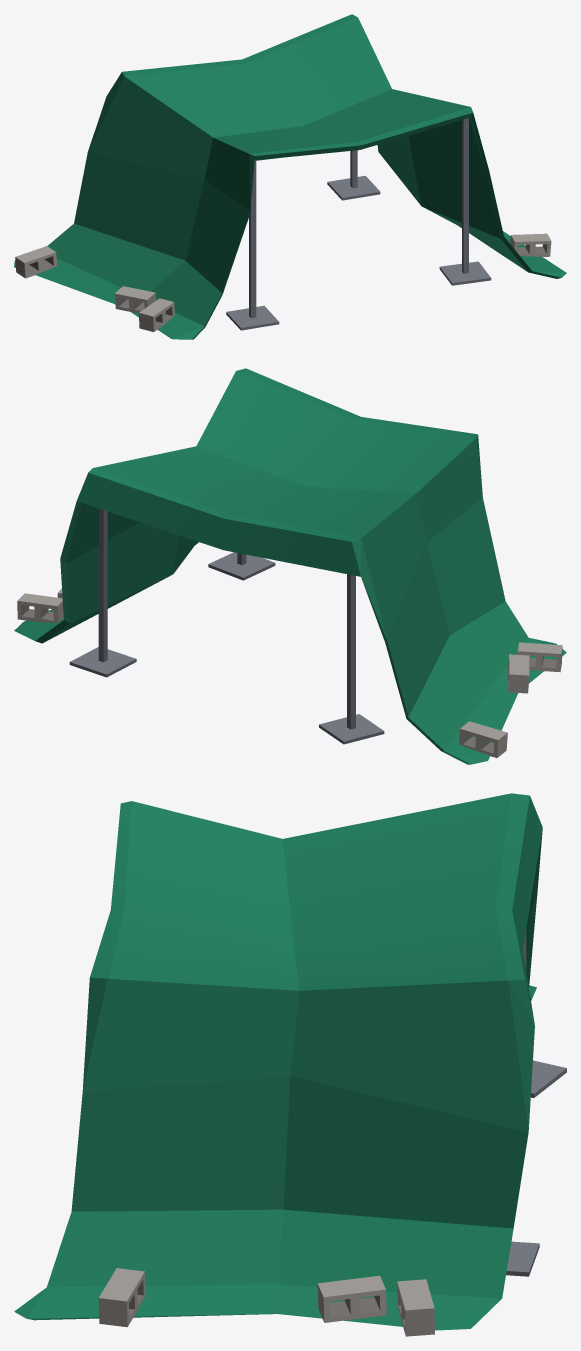
File: AI_Prop_Makeshift_Tent_03.fbx
3 views of the same model, one above another, from view 1: azimuth 30°, elevation 25°; view 2: azimuth 150°, elevation 25°; view 3: azimuth 270°, elevation 25° (orthographic). The views are drawn at different scales.
Visible parts, largest first — view 1: AI_Prop_Makeshift_Tent_03; view 2: AI_Prop_Makeshift_Tent_03; view 3: AI_Prop_Makeshift_Tent_03.
Part boxes in pixels (x1=…): AI_Prop_Makeshift_Tent_03: x1=14, y1=14, x2=566, y2=339; AI_Prop_Makeshift_Tent_03: x1=14, y1=368, x2=566, y2=764; AI_Prop_Makeshift_Tent_03: x1=14, y1=793, x2=566, y2=1336.
Size of the model in its own units: 9.95 by 3.71 by 6.47.
